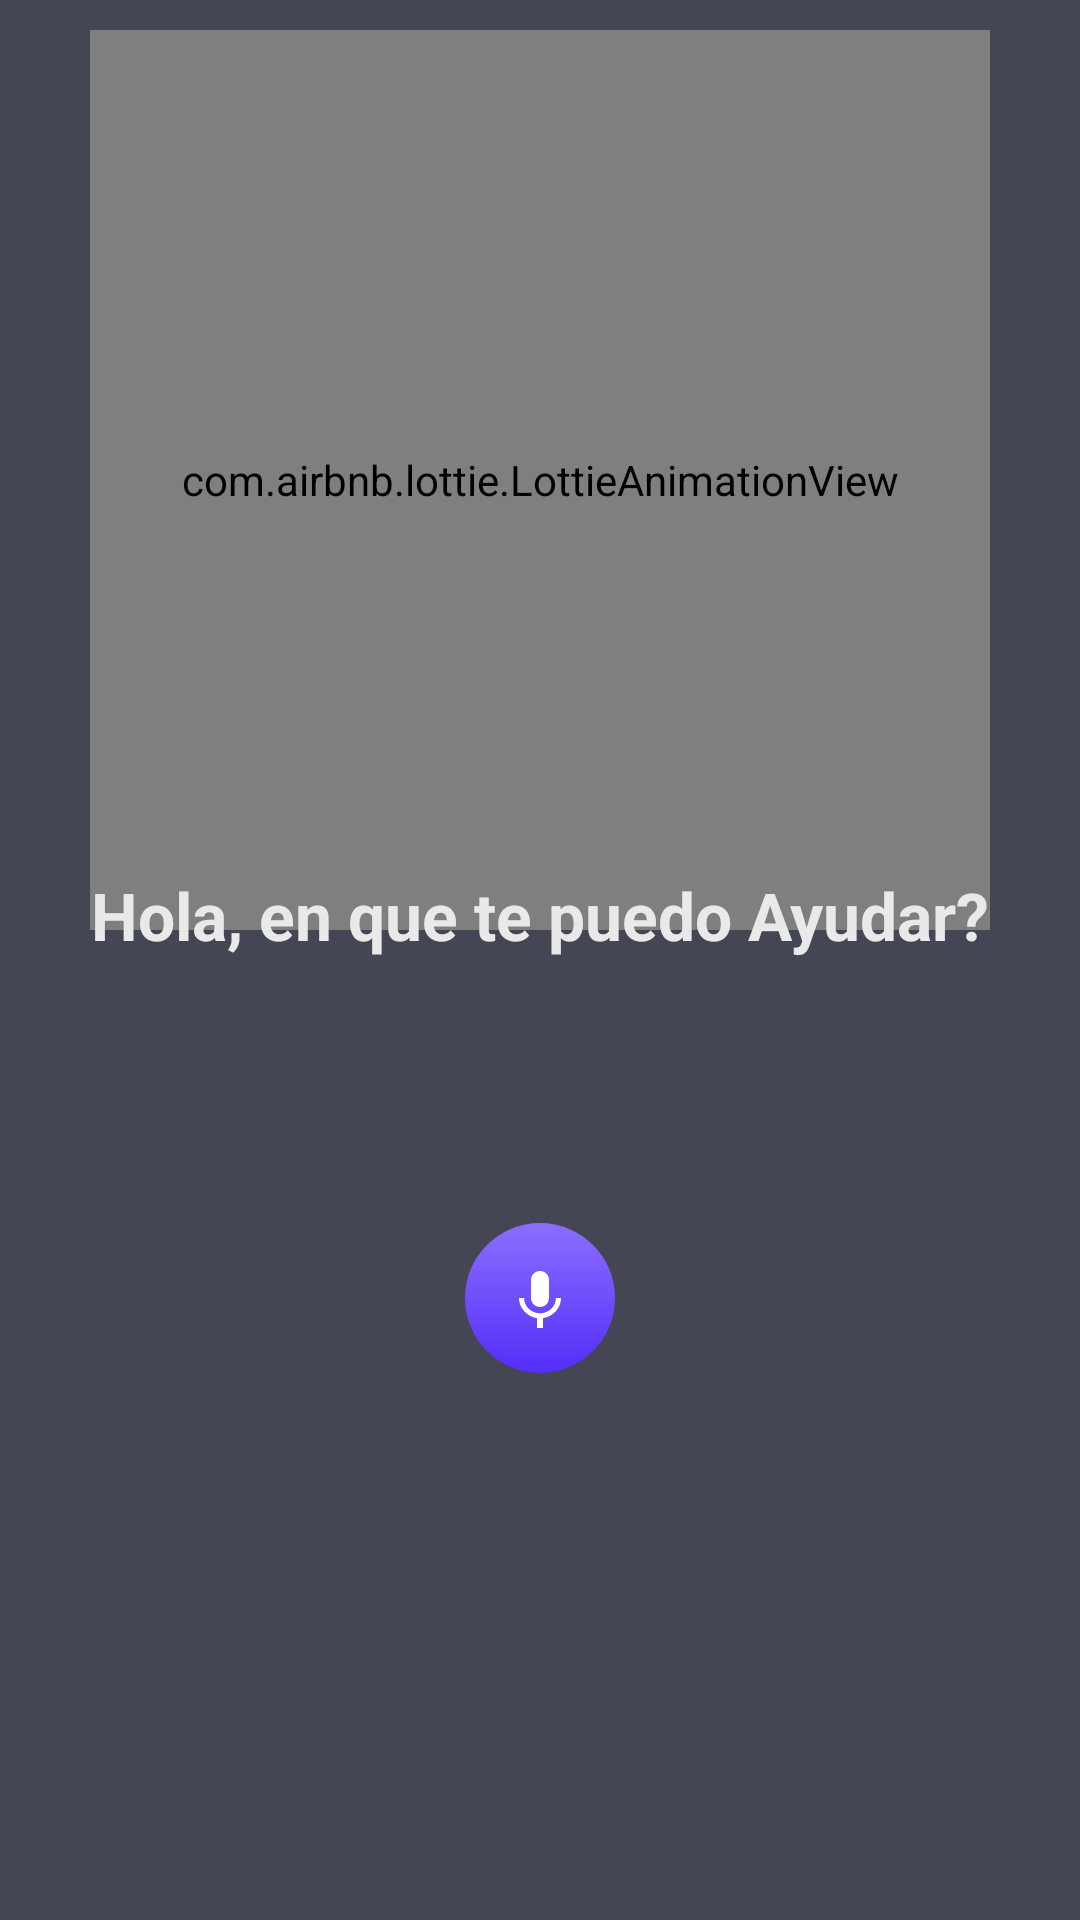

Icon click points for this 1080 x 1920 phone screenshot, format (x=x, y=y):
Voice button: (x=540, y=1298)
